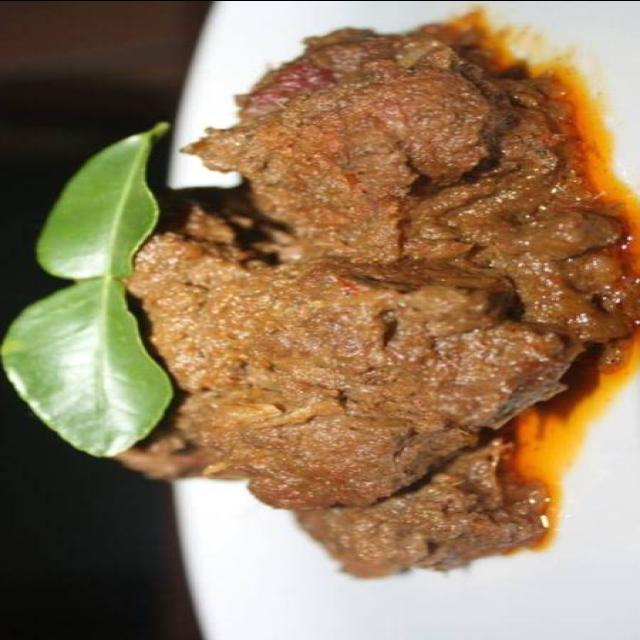rendang: (118, 10, 640, 579)
